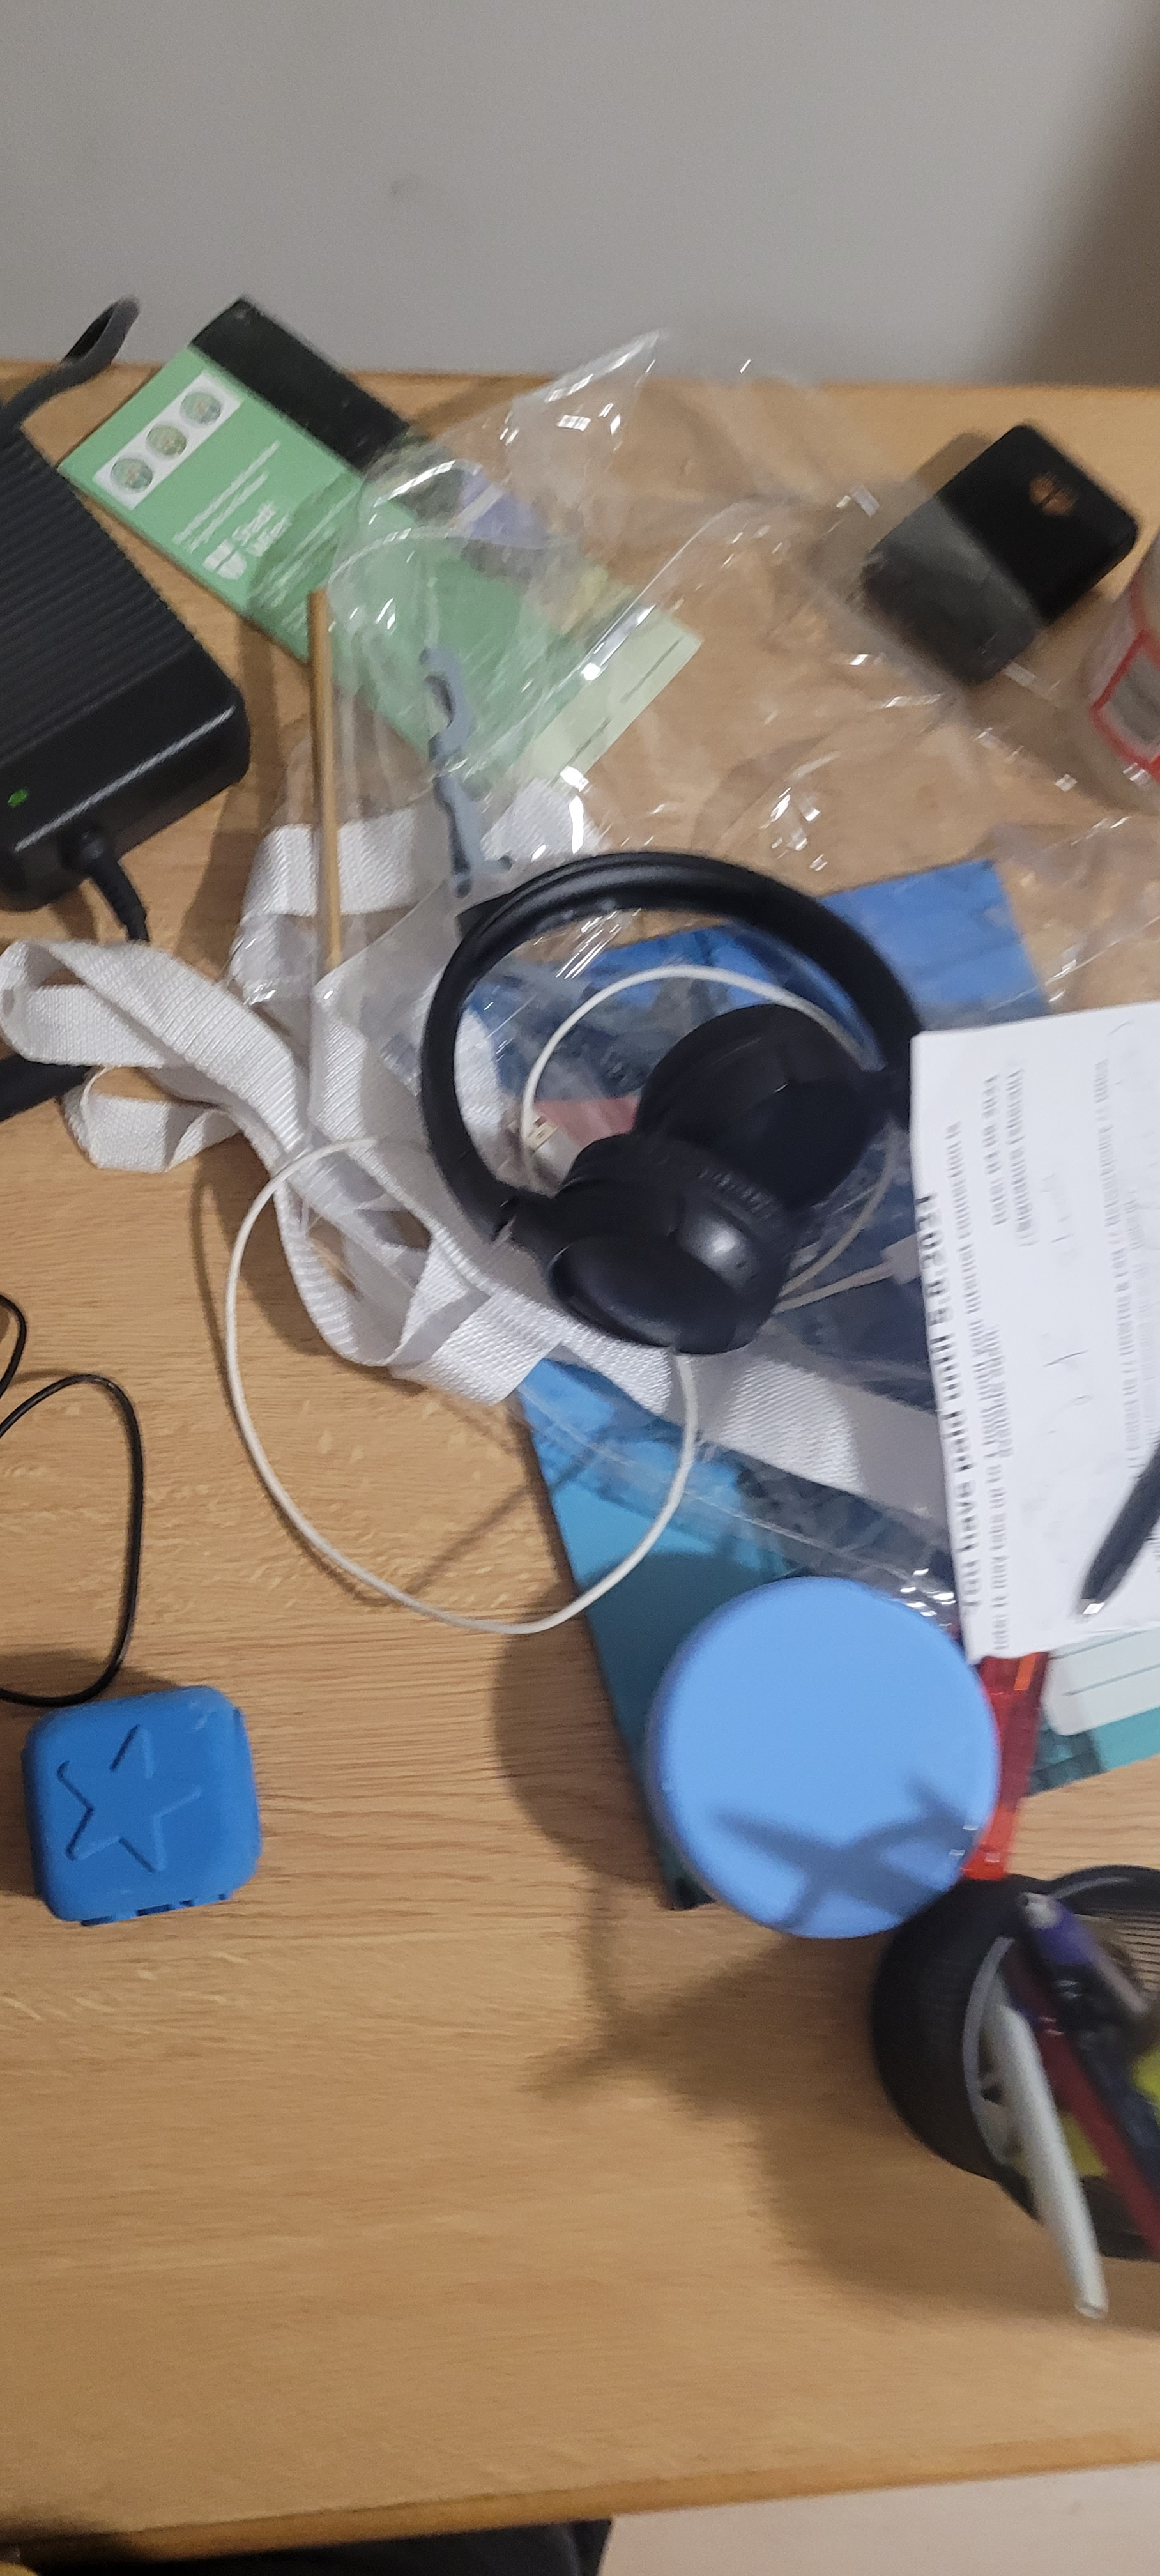Star: (20, 1732, 219, 1874)
